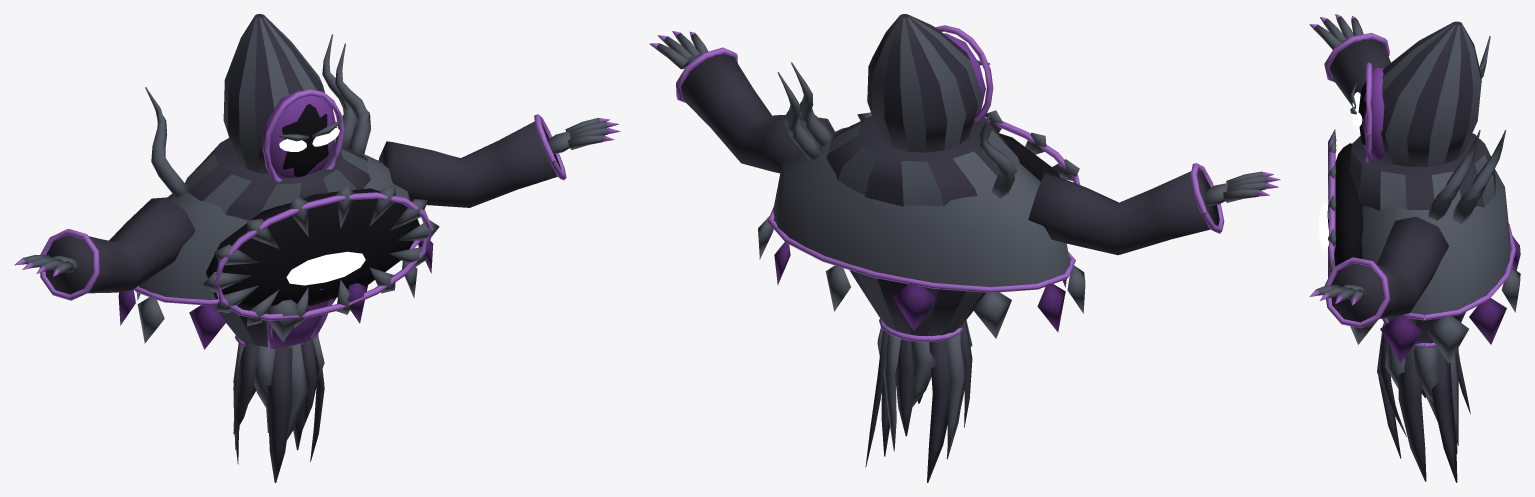
File: lurker-blow-eater.glb
3 views of the same model, side by side, from view 1: azimuth 30°, elevation 25°; view 2: azimuth 150°, elevation 25°; view 3: azimuth 270°, elevation 25° (orthographic). The views are drawn at different scales.
Parts seen in each view (by area): view 1: lurker_blow_eater, turn_head, sway_arm_l, sway_arm_r, sway_hem_front, sway_wisps, pulse_maw, sway_hem_r; view 2: lurker_blow_eater, turn_head, sway_arm_r, sway_arm_l, sway_hem_back, sway_wisps, sway_hem_r; view 3: lurker_blow_eater, turn_head, sway_arm_l, sway_arm_r, sway_hem_l, sway_wisps, sway_hem_back, sway_hem_front, pulse_maw.
Part boxes in pixels (x1=…): lurker_blow_eater: x1=118, y1=138, x2=439, y2=349; turn_head: x1=223, y1=14, x2=344, y2=181; sway_arm_l: x1=378, y1=114, x2=620, y2=207; sway_arm_r: x1=14, y1=197, x2=195, y2=300; sway_hem_front: x1=252, y1=335, x2=324, y2=482; sway_wisps: x1=145, y1=34, x2=370, y2=197; pulse_maw: x1=286, y1=251, x2=365, y2=285; sway_hem_r: x1=233, y1=340, x2=259, y2=449; lurker_blow_eater: x1=758, y1=110, x2=1085, y2=341; turn_head: x1=867, y1=14, x2=993, y2=152; sway_arm_r: x1=1028, y1=163, x2=1280, y2=255; sway_arm_l: x1=649, y1=31, x2=834, y2=173; sway_hem_back: x1=865, y1=330, x2=951, y2=482; sway_wisps: x1=777, y1=62, x2=1014, y2=198; sway_hem_r: x1=946, y1=321, x2=972, y2=454; lurker_blow_eater: x1=1327, y1=129, x2=1520, y2=363; turn_head: x1=1350, y1=21, x2=1481, y2=166; sway_arm_l: x1=1309, y1=216, x2=1448, y2=328; sway_arm_r: x1=1309, y1=14, x2=1390, y2=106; sway_hem_l: x1=1398, y1=342, x2=1439, y2=481; sway_wisps: x1=1428, y1=36, x2=1506, y2=223; sway_hem_back: x1=1432, y1=348, x2=1470, y2=482; sway_hem_front: x1=1377, y1=323, x2=1406, y2=458; pulse_maw: x1=1318, y1=203, x2=1328, y2=249.
Size of the model in its own units: 1.34 by 0.9503 by 0.4127.
